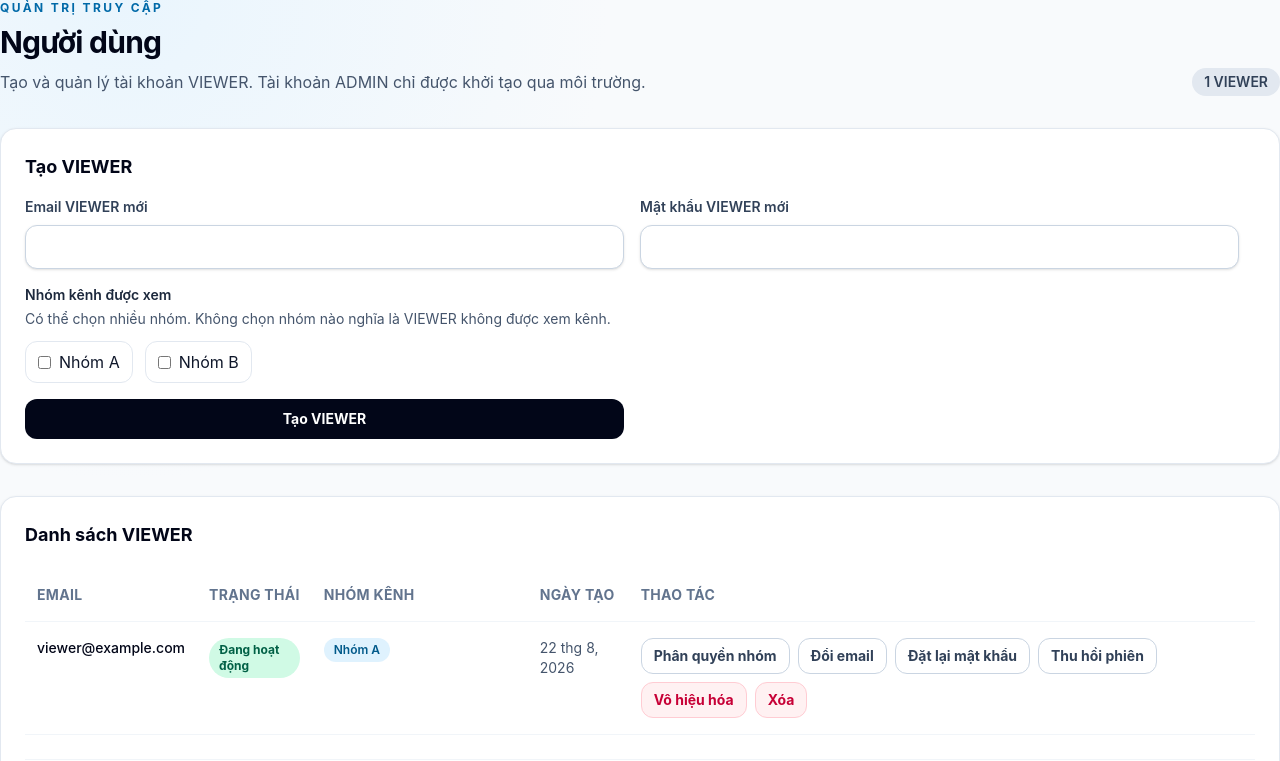
it: UsersScreen › replaces a VIEWER assignment with an explicit empty set that visibly means no access
Check: the text "Nhóm A" in the row of "viewer@example.com" is shown, box [334, 642, 380, 657]
Click the button "Phân quyền nhóm": [715, 656] box [641, 638, 790, 674]
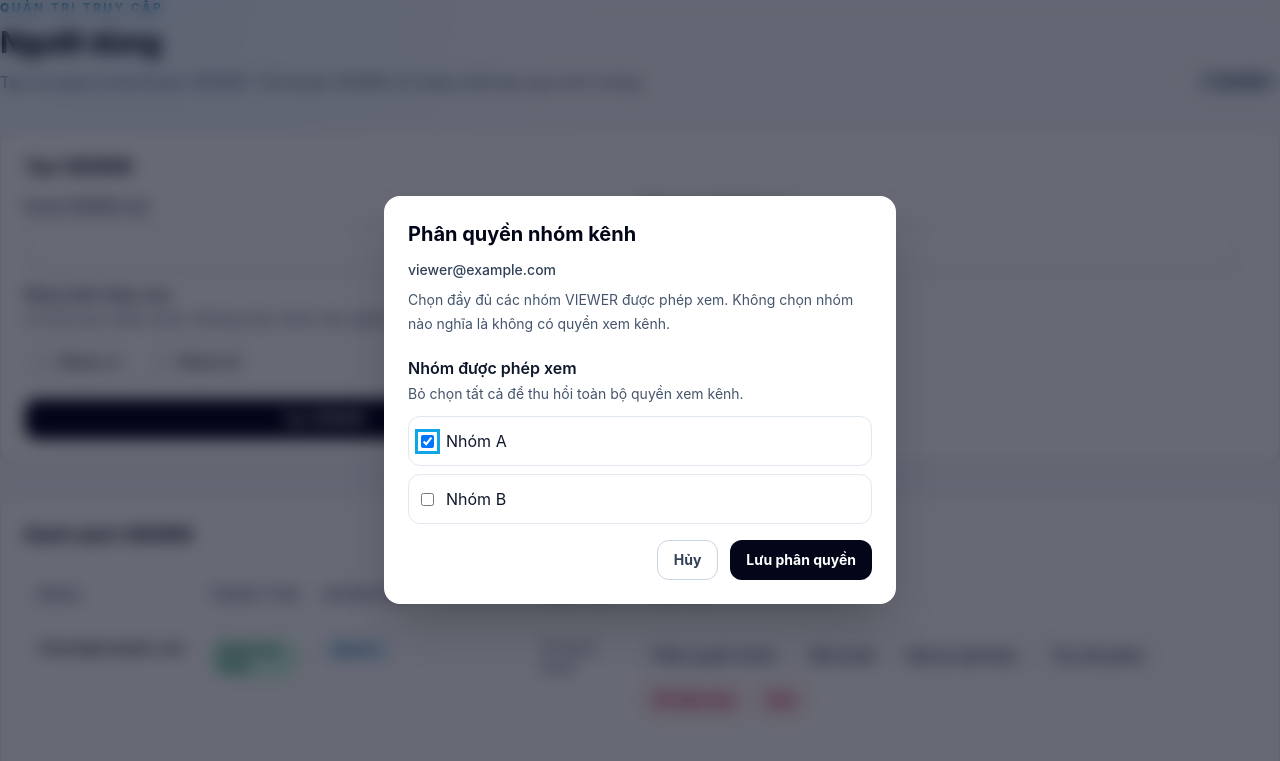
Click the checkbox labelled "Nhóm A": [428, 441] box [421, 434, 434, 448]
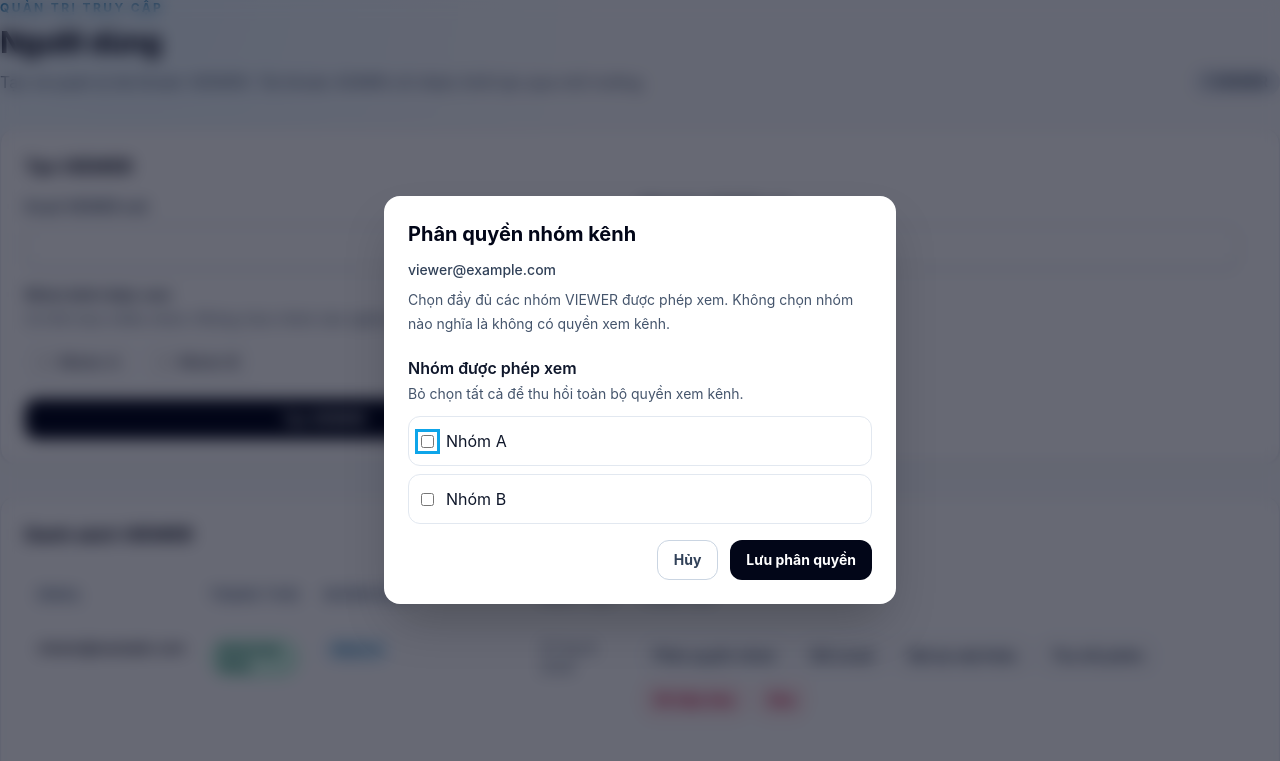
Click the button "Lưu phân quyền": [801, 560] box [730, 540, 872, 580]
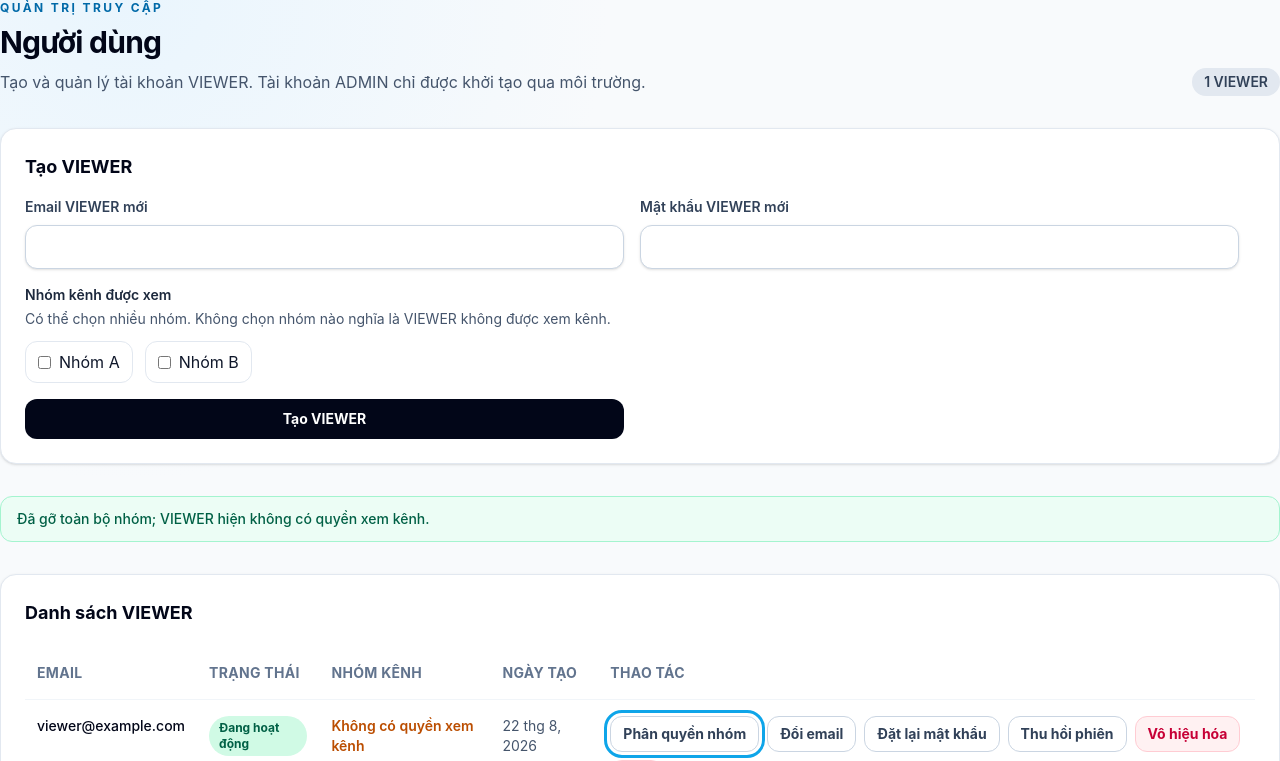
Check: the text "Không có quyền xem kênh" is shown, box [331, 717, 474, 754]
